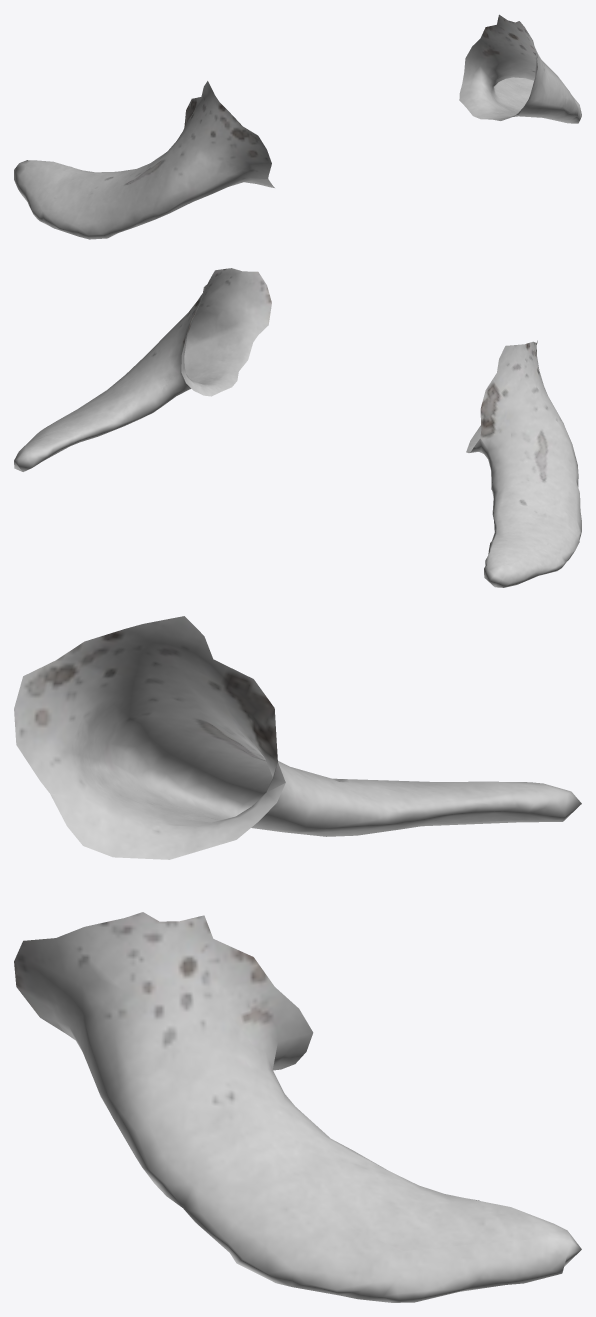
The model's file is seal_hands.obj.
3 renders of one model, top to bottom at view 1: azimuth 30°, elevation 25°; view 2: azimuth 150°, elevation 25°; view 3: azimuth 270°, elevation 25°, orthographic. The views are drawn at different scales.
Parts seen in each view (by area): view 1: defaultMaterial.002; view 2: defaultMaterial.002; view 3: defaultMaterial.002.
Boxes of the visible parts, left/top/right/bottom form: defaultMaterial.002: left=14, top=14, right=581, bottom=239; defaultMaterial.002: left=14, top=268, right=581, bottom=587; defaultMaterial.002: left=14, top=616, right=581, bottom=1302.
Bounding box in the file's own units: 1.08 × 0.3071 × 0.5211.
